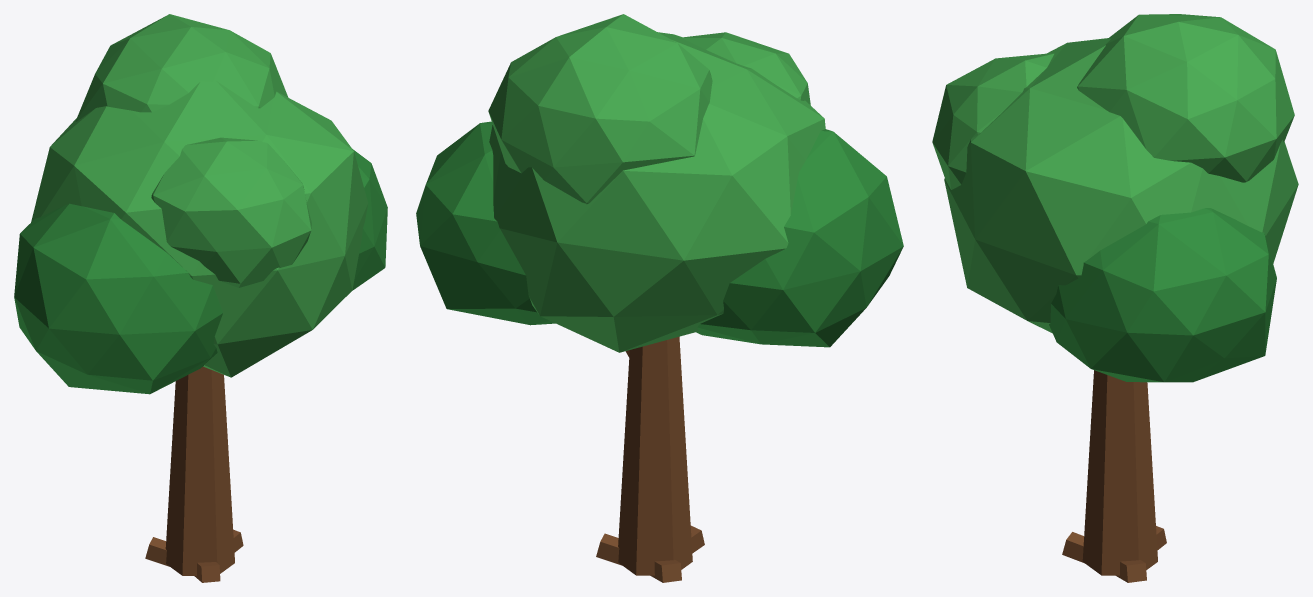
File: Tree_Round.glb
3 renders of one model, left to right at view 1: azimuth 30°, elevation 25°; view 2: azimuth 150°, elevation 25°; view 3: azimuth 270°, elevation 25°, orthographic. The views are drawn at different scales.
Visible parts, largest first — view 1: Tree_Round_Leaves, Tree_Round_Trunk; view 2: Tree_Round_Leaves, Tree_Round_Trunk; view 3: Tree_Round_Leaves, Tree_Round_Trunk.
Boxes of the visible parts, x1=… form: Tree_Round_Leaves: x1=14, y1=14, x2=387, y2=394; Tree_Round_Trunk: x1=145, y1=366, x2=243, y2=582; Tree_Round_Leaves: x1=416, y1=14, x2=903, y2=352; Tree_Round_Trunk: x1=596, y1=336, x2=704, y2=582; Tree_Round_Leaves: x1=932, y1=14, x2=1298, y2=382; Tree_Round_Trunk: x1=1062, y1=370, x2=1166, y2=582.
Bounding box in the file's own units: 4.27 × 5.53 × 3.3.
Materials: 1 (1 with a texture image).
